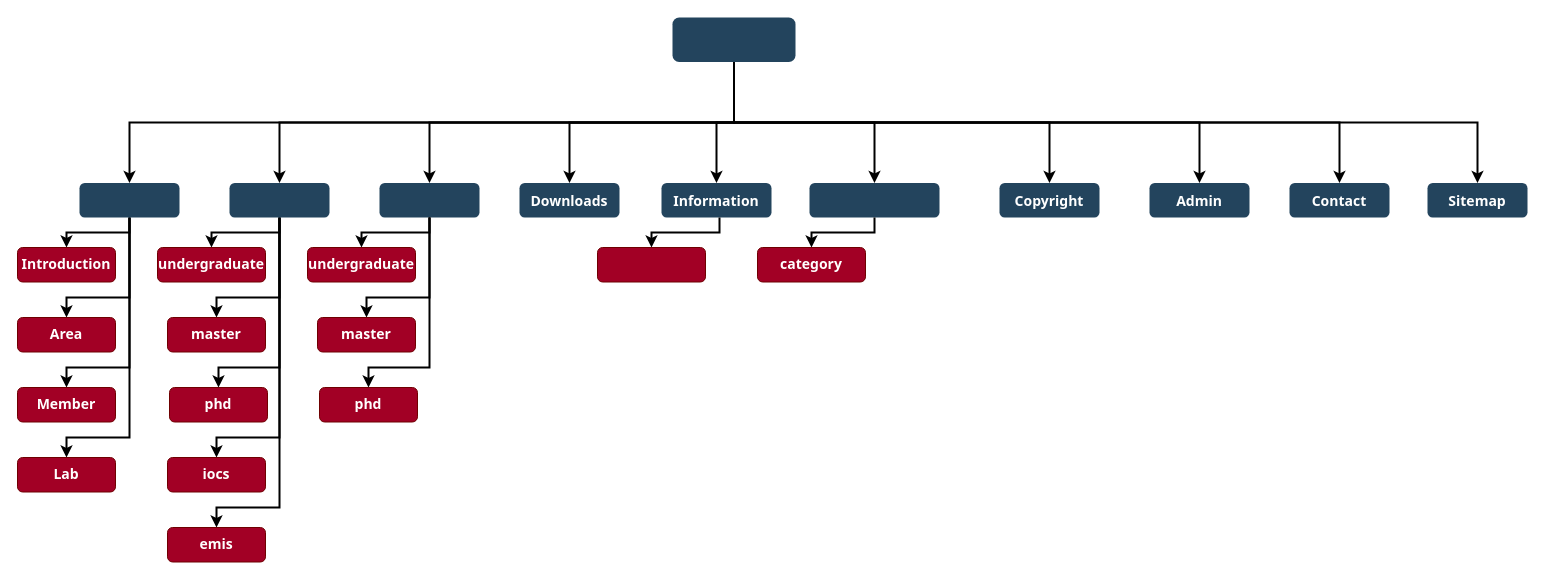
The diagram is 1545 pixels wide and 579 high, and some of its shapes have lost their labels. Each missing label, with the centre of its shape:
"Admission" belongs at (x=279, y=199).
"Announcements" belongs at (x=874, y=199).
"Course" belongs at (x=429, y=199).
"Department" belongs at (x=129, y=199).
"future" belongs at (x=651, y=264).
"Homepage" belongs at (x=733, y=39).
